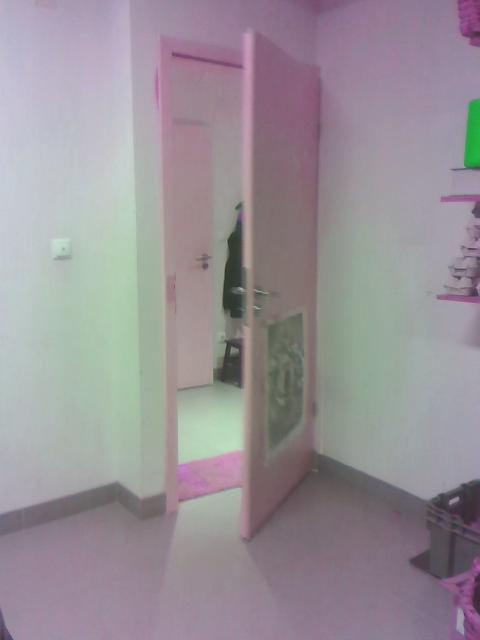semi_door: (154, 27, 321, 541)
